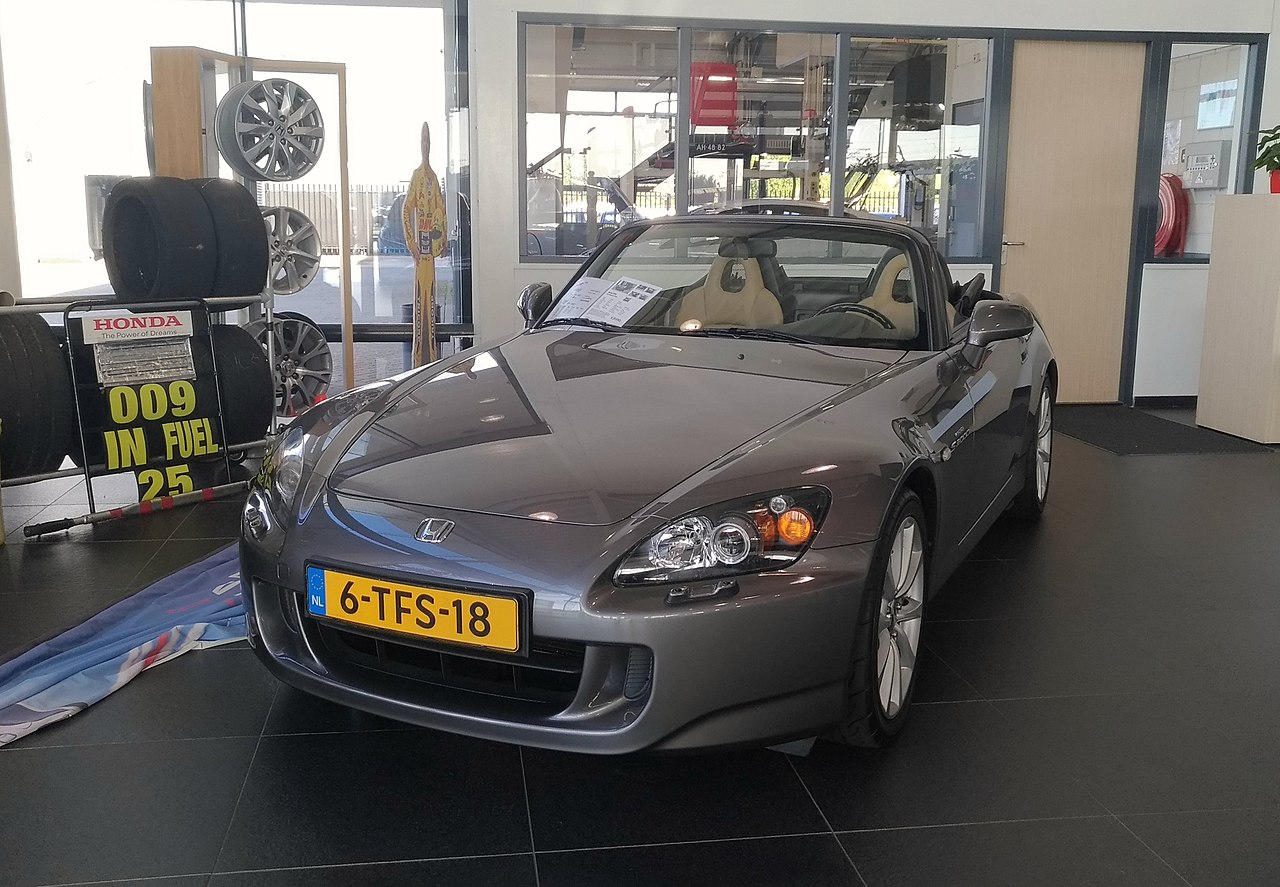plate: (304, 563, 521, 655)
